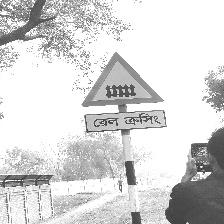Rail-crossing: (81, 54, 166, 132)
